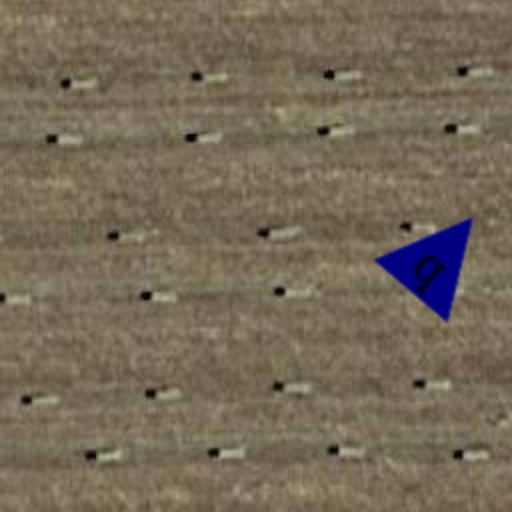triangle: (372, 184, 512, 324)
